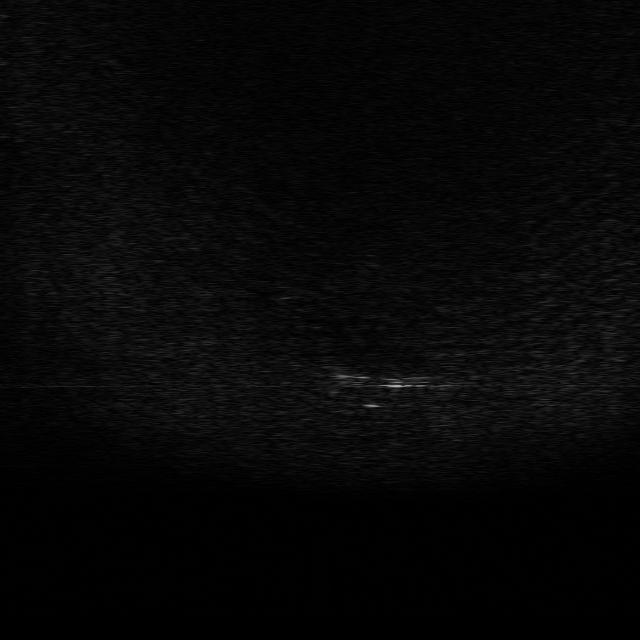plane: (322, 360, 438, 400)
